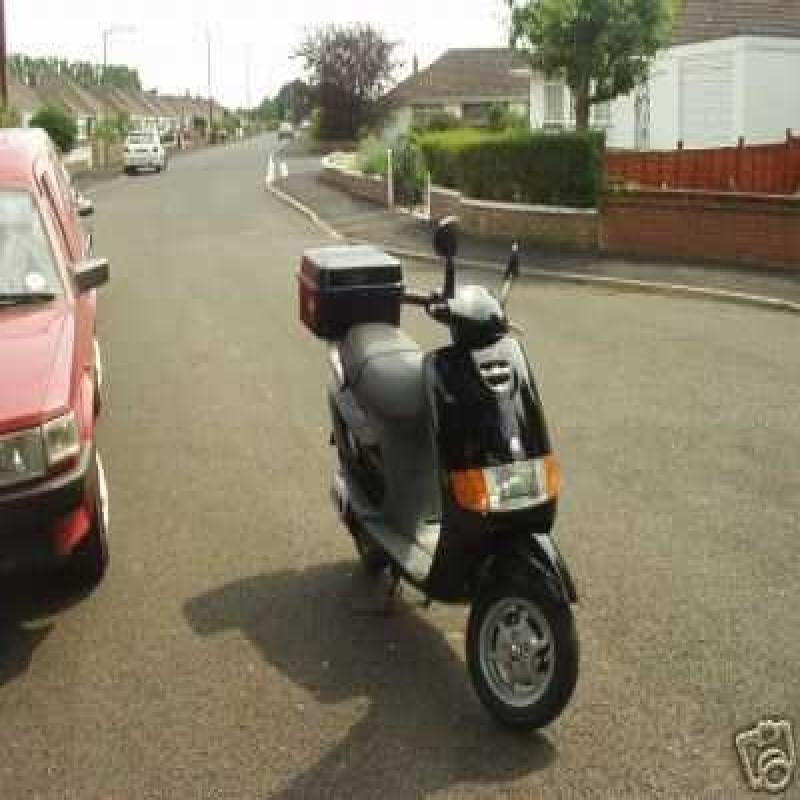bike: (310, 226, 596, 737)
